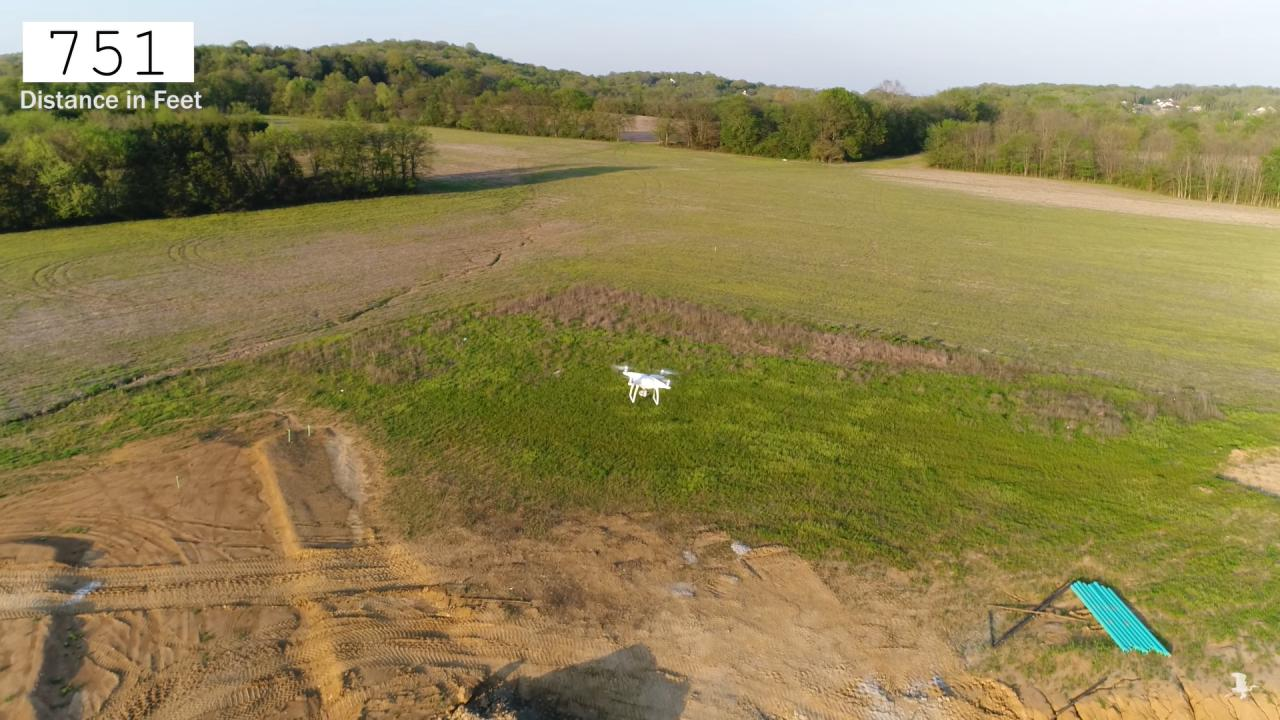Drone: (604, 352, 688, 413)
